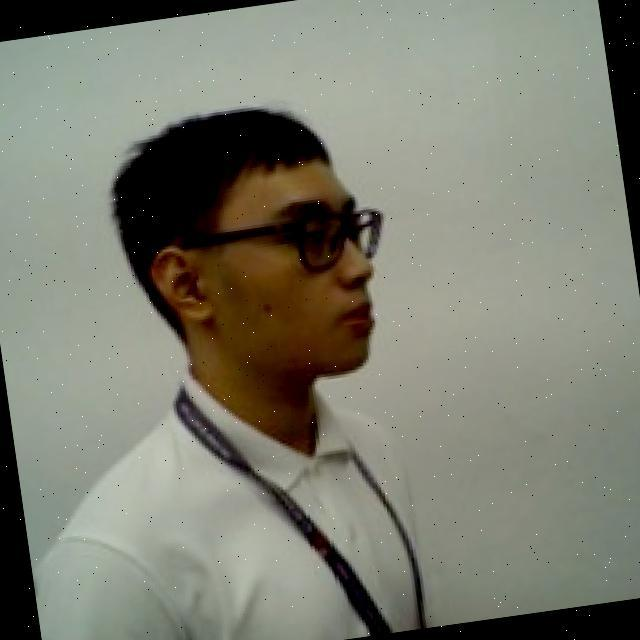no_gloves: (96, 84, 372, 253)
no_hairnet: (146, 220, 393, 410)
